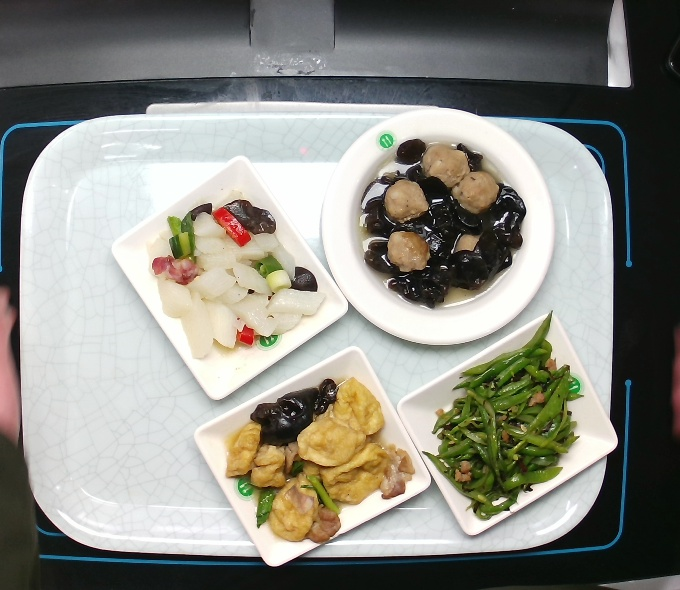wcq-MuErWanZi: (354, 139, 523, 306)
wcq-ShanYao: (149, 186, 313, 366)
wcq-SiJiDouChaoRou: (421, 311, 585, 521)
wcq-YouPaoRouPian: (229, 361, 416, 550)
